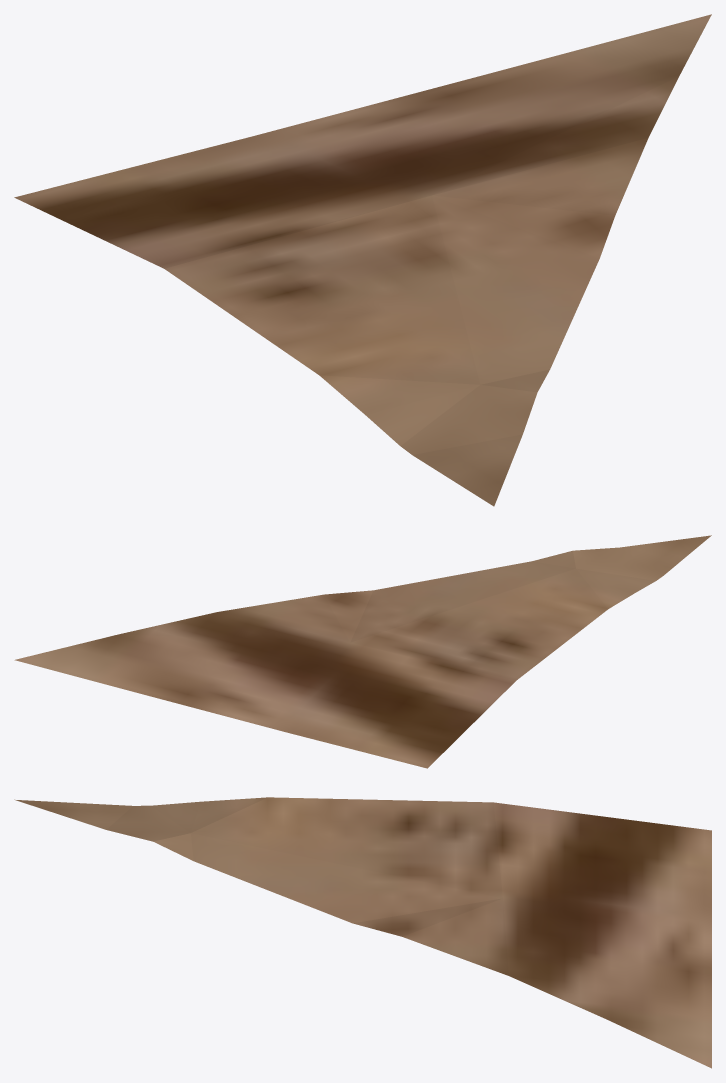
3 renders of one model, top to bottom at view 1: azimuth 30°, elevation 25°; view 2: azimuth 150°, elevation 25°; view 3: azimuth 270°, elevation 25°, orthographic. The views are drawn at different scales.
Bounding box in the file's own units: 1.2 × 0.086 × 1.43.
Materials: 1 (1 with a texture image).
